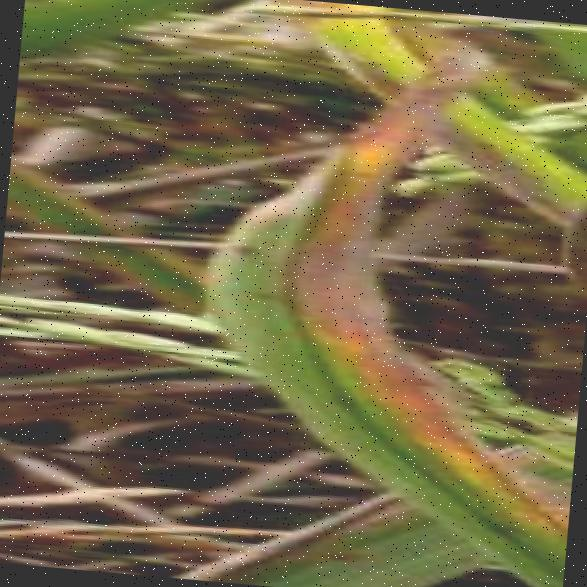Bacteria_Leaf_Blight: (208, 149, 397, 454)
